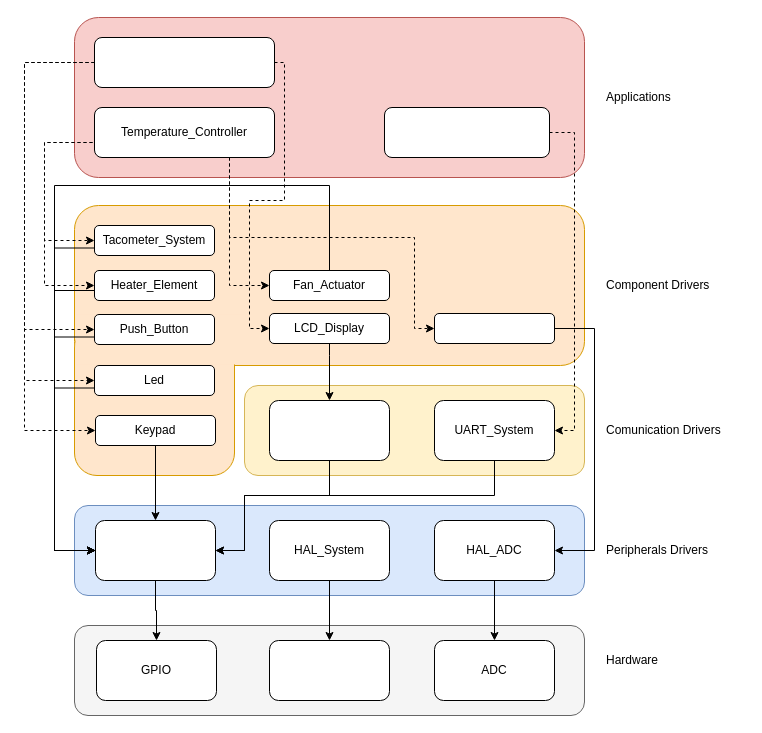
This 762x733 diagram has some shape labels left out. Here are the shapes that lost their labels. From the top down, the centre of each, then its label:
At (184,62): "User_Interface".
At (467,132): "Remote_Communication".
At (494,328): "Temperature_Sensor".
At (329,430): "I2C_System".
At (155,550): "HAL_GPIO".
At (329,670): "TIMER".
